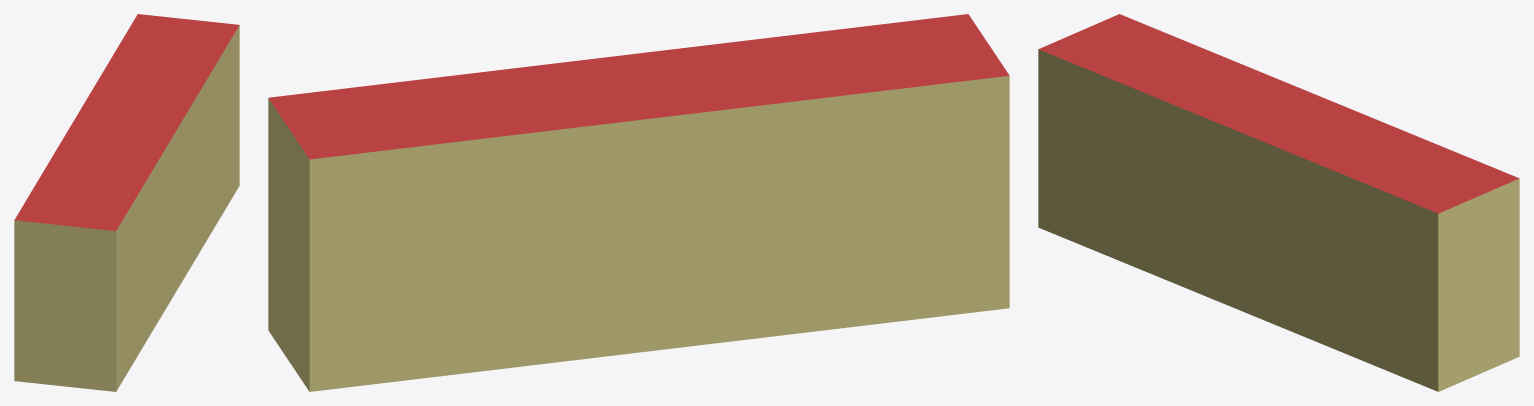
3 renders of one model, left to right at view 1: azimuth 30°, elevation 25°; view 2: azimuth 150°, elevation 25°; view 3: azimuth 270°, elevation 25°, orthographic. The views are drawn at different scales.
Visible parts, largest first — view 1: group_4, group_3; view 2: group_4, group_3; view 3: group_4, group_3.
Part boxes in pixels (bbox=[...]): group_4: bbox=[14, 25, 239, 391]; group_3: bbox=[14, 14, 239, 230]; group_4: bbox=[268, 75, 1009, 391]; group_3: bbox=[268, 14, 1009, 159]; group_4: bbox=[1038, 49, 1519, 391]; group_3: bbox=[1039, 14, 1518, 213].
Bounding box in the file's own units: 60.08 × 61.19 × 25.01.
